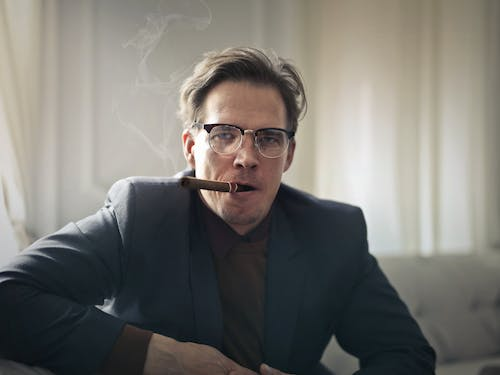cigarette: (178, 175, 250, 192)
